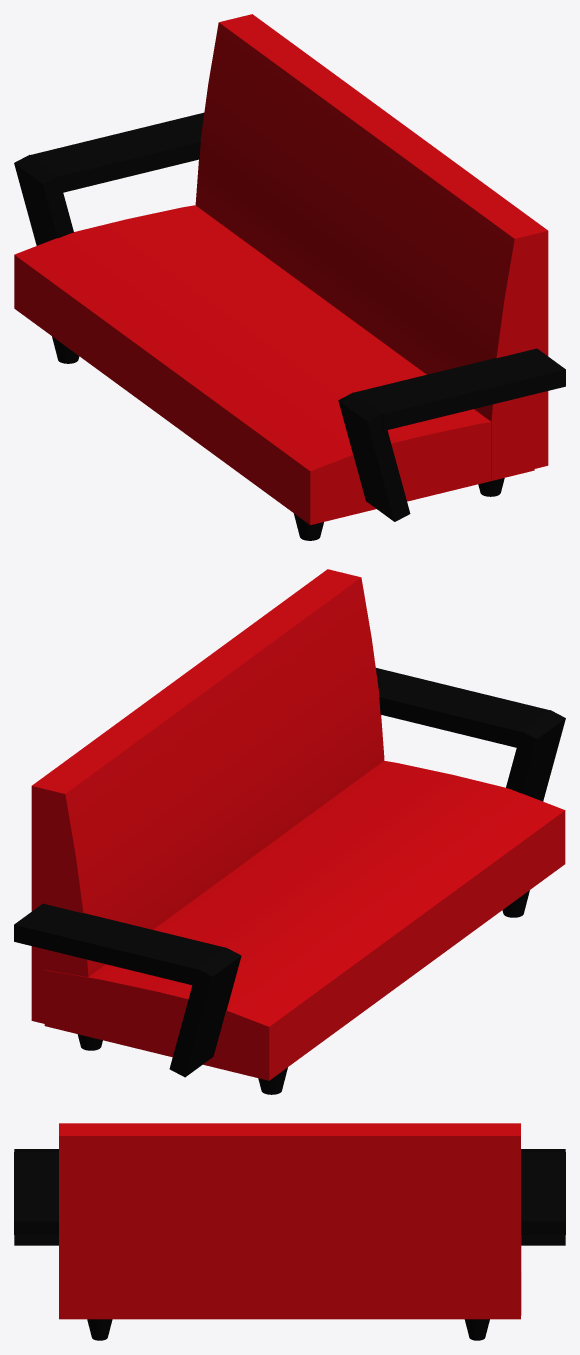
3 renders of one model, top to bottom at view 1: azimuth 30°, elevation 25°; view 2: azimuth 150°, elevation 25°; view 3: azimuth 270°, elevation 25°, orthographic. The views are drawn at different scales.
Parts seen in each view (by area): view 1: Box002, Box001, Box005, Box004, Box006, Box003; view 2: Box001, Box002, Box004, Box005, Box003, Box006; view 3: Box002, Box004, Box005, Box003, Box006, Cone003, Cone002.
Boxes of the visible parts, x1,y1,x2,y2 form: Box002: (195,14,548,479); Box001: (14,205,534,525); Box005: (355,348,565,430); Box004: (30,112,204,193); Box006: (338,392,410,521); Box003: (14,154,73,245); Box001: (44,760,565,1080); Box002: (31,569,384,1023); Box004: (14,903,224,986); Box005: (376,668,549,748); Box003: (169,947,241,1077); Box006: (506,710,565,801); Box002: (59,1123,520,1319); Box004: (521,1152,565,1234); Box005: (14,1152,58,1234); Box003: (521,1149,565,1245); Box006: (14,1149,58,1245); Cone003: (87,1319,112,1340); Cone002: (464,1319,489,1340).
Bounding box in the file's own units: 21.73 × 23.85 × 55.96.
